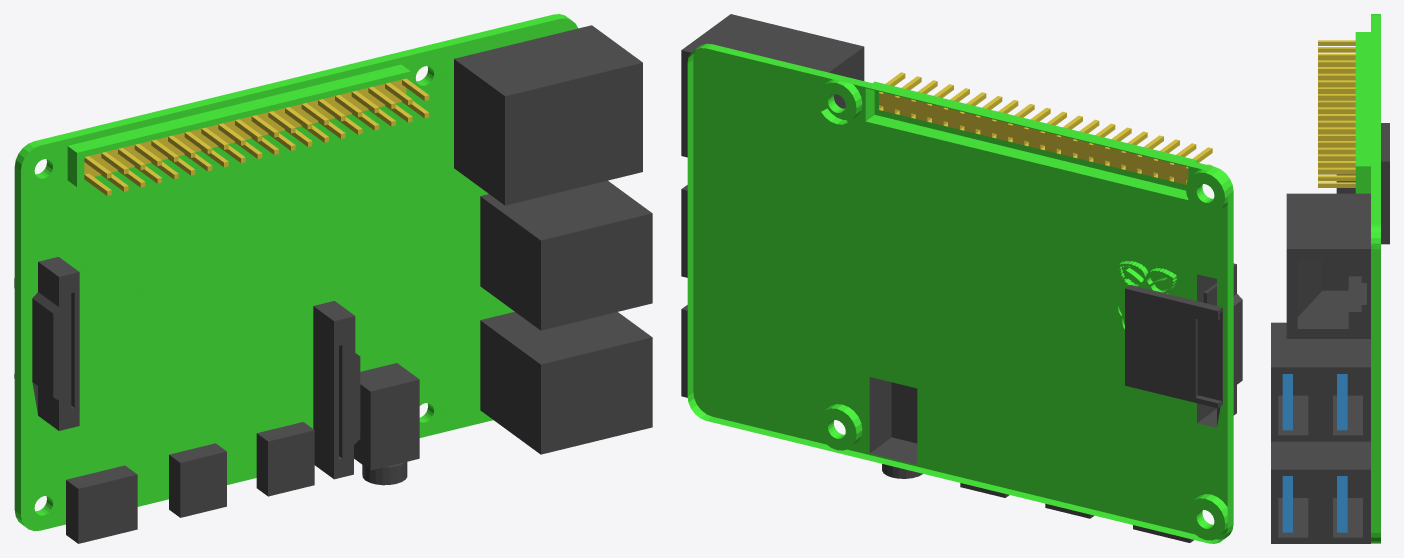
Rendered from raspberry.glb.
3 views of the same model, side by side, from view 1: azimuth 30°, elevation 25°; view 2: azimuth 150°, elevation 25°; view 3: azimuth 270°, elevation 25° (orthographic). The views are drawn at different scales.
Visible parts, largest first — view 1: nodes[19], nodes[15], nodes[0], nodes[1], pins, nodes[2], block2, block, nodes[3], nodes[9], nodes[8], nodes[11] (+3 smaller); view 2: nodes[19], block3, pins, nodes[15], block, block2, nodes[11], nodes[12], nodes[13]; view 3: nodes[15], nodes[0], nodes[1], nodes[19], pins, block3, nodes[5], nodes[6], nodes[7], nodes[4], block2.
Boxes of the visible parts, left/top/right/bottom form: nodes[19]: left=14, top=14, right=578, bottom=531; nodes[15]: left=454, top=25, right=642, bottom=205; nodes[0]: left=480, top=180, right=652, bottom=330; nodes[1]: left=480, top=312, right=652, bottom=454; pins: left=84, top=78, right=429, bottom=195; nodes[2]: left=313, top=301, right=360, bottom=479; block2: left=32, top=257, right=79, bottom=430; block: left=354, top=363, right=419, bottom=470; nodes[3]: left=66, top=465, right=137, bottom=543; nodes[9]: left=256, top=422, right=314, bottom=496; nodes[8]: left=169, top=443, right=226, bottom=517; nodes[11]: left=23, top=147, right=64, bottom=190; nodes[19]: left=687, top=43, right=1233, bottom=543; block3: left=1125, top=285, right=1222, bottom=408; pins: left=879, top=72, right=1212, bottom=184; nodes[15]: left=681, top=14, right=864, bottom=157; block: left=869, top=377, right=917, bottom=464; block2: left=1197, top=263, right=1242, bottom=427; nodes[11]: left=1185, top=172, right=1225, bottom=214; nodes[12]: left=817, top=408, right=856, bottom=450; nodes[13]: left=1185, top=498, right=1225, bottom=540; nodes[15]: left=1286, top=193, right=1370, bottom=338; nodes[0]: left=1271, top=322, right=1370, bottom=441; nodes[1]: left=1271, top=441, right=1370, bottom=543; nodes[19]: left=1355, top=14, right=1380, bottom=543; pins: left=1318, top=40, right=1355, bottom=187; block3: left=1381, top=123, right=1389, bottom=244; nodes[5]: left=1337, top=476, right=1347, bottom=532; nodes[6]: left=1282, top=476, right=1292, bottom=532; nodes[7]: left=1337, top=374, right=1347, bottom=430; nodes[4]: left=1282, top=374, right=1292, bottom=430; block2: left=1336, top=174, right=1355, bottom=193.
Bounding box in the file's own units: 86.9 × 58.59 × 19.
